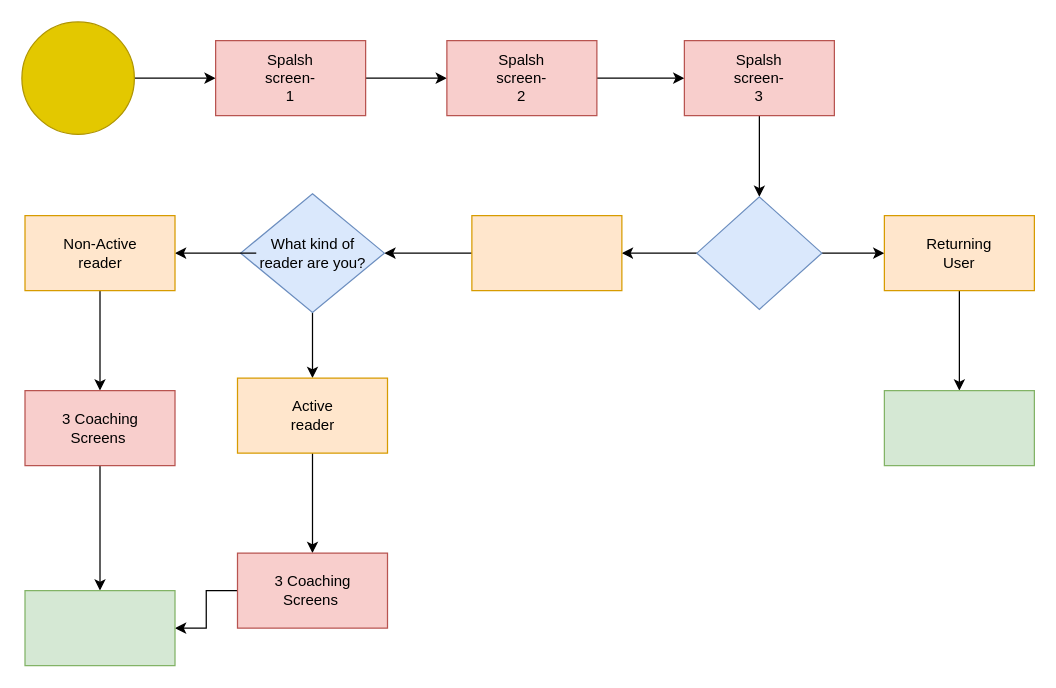
The diagram is 1056 pixels wide and 688 high, and some of its shapes have lost their labels. Here are the shapes that lost their labels. From the top down, the centre of each, then its label:
At [77,77]: "Start".
At [546,252]: "New User".
At [759,252]: "User new or returning?".
At [958,427]: "Login".
At [99,627]: "Sign-up".
